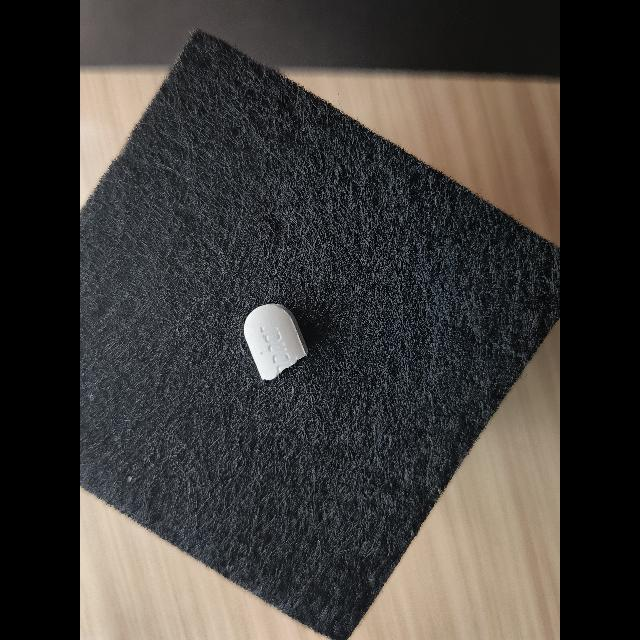Chipped Pill: (244, 303, 308, 380)
